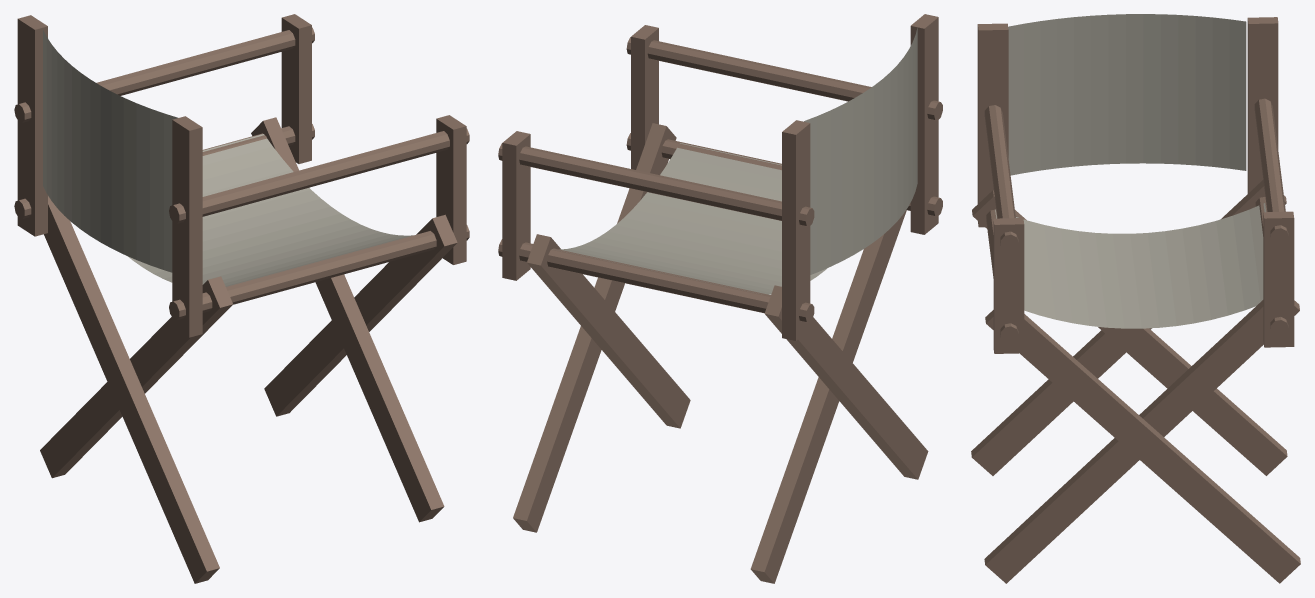
Rendered from Folding_chair_90.glb.
3 views of the same model, side by side, from view 1: azimuth 30°, elevation 25°; view 2: azimuth 150°, elevation 25°; view 3: azimuth 270°, elevation 25° (orthographic). The views are drawn at different scales.
Visible parts, largest first — view 1: Node-Mesh, Node-Mesh_1; view 2: Node-Mesh, Node-Mesh_1; view 3: Node-Mesh_1, Node-Mesh.
Part boxes in pixels (x1,y1,x2,y2): Node-Mesh: (14,14,469,583); Node-Mesh_1: (43,30,412,286); Node-Mesh: (498,14,942,583); Node-Mesh_1: (552,28,917,294); Node-Mesh_1: (995,14,1266,328); Node-Mesh: (971,17,1300,583).
Bounding box in the file's own units: 23.05 × 32.41 × 22.
